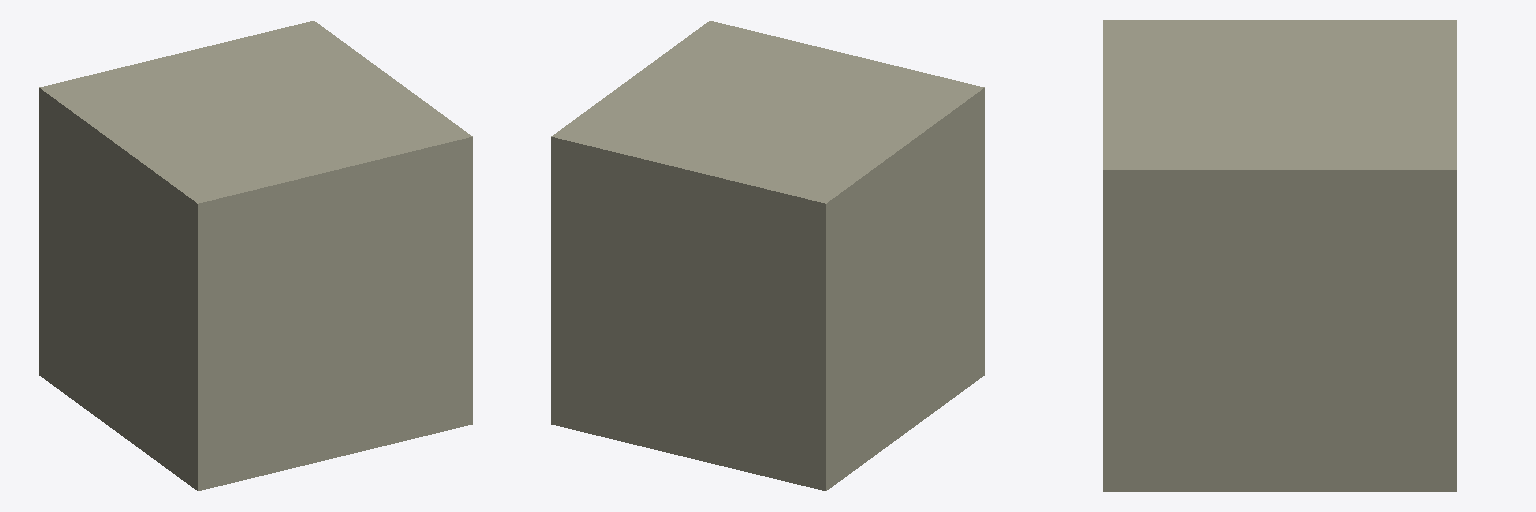
URDF robot description (background_skeleton):
<?xml version="1.0"?>
<robot name="background_skeleton">
    <link name="world" />
    <link name="background_link1">
        <inertial>
            <mass value="1.0" />
            <origin xyz="0 0 0" rpy="0 0 0" />
            <inertia ixx="1.0" ixy="0" ixz="0" iyy="1.0" iyz="0" izz="1.0" />
        </inertial>
        <visual>
            <origin xyz="0 0 0" rpy="0 0 0" />
            <geometry>
                <box size="100.0 100.0 0.05" />
            </geometry>
            <material name="FloorGray">
              <color rgba="0.68 0.67 0.6 1.0"/>
            </material>
        </visual>
        <collision group="default">
            <origin xyz="0 0 0" rpy="0 0 0" />
            <geometry>
                <box size="100.0 100.0 0.05" />
            </geometry>
        </collision>
    </link>
    <link name="background_link2">
        <inertial>
            <mass value="1.0" />
            <origin xyz="0 0 0" rpy="0 0 0" />
            <inertia ixx="1.0" ixy="0" ixz="0" iyy="1.0" iyz="0" izz="1.0" />
        </inertial>
        <visual>
            <origin xyz="0 0 0" rpy="0 0 0" />
            <geometry>
                <box size="100.0 100.0 0.05" />
            </geometry>
            <material name="FloorGray" />
        </visual>
        <collision group="default">
            <origin xyz="0 0 0" rpy="0 0 0" />
            <geometry>
                <box size="100.0 100.0 0.05" />
            </geometry>
        </collision>
    </link>
    <link name="background_link3">
        <inertial>
            <mass value="1.0" />
            <origin xyz="0 0 0" rpy="0 0 0" />
            <inertia ixx="1.0" ixy="0" ixz="0" iyy="1.0" iyz="0" izz="1.0" />
        </inertial>
        <visual>
            <origin xyz="0 0 0" rpy="0 0 0" />
            <geometry>
                <box size="100.0 100.0 0.05" />
            </geometry>
            <material name="FloorGray" />
        </visual>
        <collision group="default">
            <origin xyz="0 0 0" rpy="0 0 0" />
            <geometry>
                <box size="100.0 100.0 0.05" />
            </geometry>
        </collision>
    </link>
    <link name="background_link4">
        <inertial>
            <mass value="1.0" />
            <origin xyz="0 0 0" rpy="0 0 0" />
            <inertia ixx="1.0" ixy="0" ixz="0" iyy="1.0" iyz="0" izz="1.0" />
        </inertial>
        <visual>
            <origin xyz="0 0 0" rpy="0 0 0" />
            <geometry>
                <box size="100.0 100.0 0.05" />
            </geometry>
            <material name="FloorGray" />
        </visual>
        <collision group="default">
            <origin xyz="0 0 0" rpy="0 0 0" />
            <geometry>
                <box size="100.0 100.0 0.05" />
            </geometry>
        </collision>
    </link>
    <link name="background_link5">
        <inertial>
            <mass value="1.0" />
            <origin xyz="0 0 0" rpy="0 0 0" />
            <inertia ixx="1.0" ixy="0" ixz="0" iyy="1.0" iyz="0" izz="1.0" />
        </inertial>
        <visual>
            <origin xyz="0 0 0" rpy="0 0 0" />
            <geometry>
                <box size="100.0 100.0 0.05" />
            </geometry>
            <material name="FloorGray" />
        </visual>
        <collision group="default">
            <origin xyz="0 0 0" rpy="0 0 0" />
            <geometry>
                <box size="100.0 100.0 0.05" />
            </geometry>
        </collision>
    </link>
    <link name="background_link6">
        <inertial>
            <mass value="1.0" />
            <origin xyz="0 0 0" rpy="0 0 0" />
            <inertia ixx="1.0" ixy="0" ixz="0" iyy="1.0" iyz="0" izz="1.0" />
        </inertial>
        <visual>
            <origin xyz="0 0 0" rpy="0 0 0" />
            <geometry>
                <box size="100.0 100.0 0.05" />
            </geometry>
            <material name="FloorGray" />
        </visual>
        <collision group="default">
            <origin xyz="0 0 0" rpy="0 0 0" />
            <geometry>
                <box size="100.0 100.0 0.05" />
            </geometry>
        </collision>
    </link>
    <joint name="background_joint1" type="fixed">
        <origin xyz="-50 0 0" rpy="0 1.57079632679 0" />
        <parent link="world" />
        <child link="background_link1" />
    </joint>
    <joint name="background_joint2" type="fixed">
        <origin xyz="0 -50 0" rpy="1.57079632679 0 0" />
        <parent link="world" />
        <child link="background_link2" />
    </joint>
    <joint name="background_joint3" type="fixed">
        <origin xyz="+50 0 0" rpy="0 1.57079632679 0" />
        <parent link="world" />
        <child link="background_link3" />
    </joint>
    <joint name="background_joint4" type="fixed">
        <origin xyz="0 +50 0" rpy="1.57079632679 0 0" />
        <parent link="world" />
        <child link="background_link4" />
    </joint>
    <joint name="background_joint5" type="fixed">
        <origin xyz="0 0 -50" rpy="0 0 1.57079632679" />
        <parent link="world" />
        <child link="background_link5" />
    </joint>
    <joint name="background_joint6" type="fixed">
        <origin xyz="0 0 +50" rpy="0 0 1.57079632679" />
        <parent link="world" />
        <child link="background_link6" />
    </joint>
</robot>

--- Render facts (derived) ---
3 views of the same robot in one strip: view 1: azimuth 30°, elevation 25°; view 2: azimuth 150°, elevation 25°; view 3: azimuth 270°, elevation 25° (orthographic).
Robot: background_skeleton — 7 links, 6 joints (6 fixed); root link world; default pose: every joint at zero.
Visible links, largest first — view 1: background_link2, background_link1, background_link6; view 2: background_link4, background_link1, background_link6; view 3: background_link3, background_link6.
Boxes of the visible links, x1,y1,x2,y2 form: background_link2: (198,137,472,490); background_link1: (39,88,197,490); background_link6: (39,21,472,203); background_link4: (551,137,825,490); background_link1: (826,88,984,490); background_link6: (551,21,984,203); background_link3: (1103,170,1456,490); background_link6: (1103,20,1456,169).
Bounding box of the posed robot: 100 × 100 × 100 m (x, y, z).
Geometry: primitives only (box / cylinder / sphere), no mesh files.